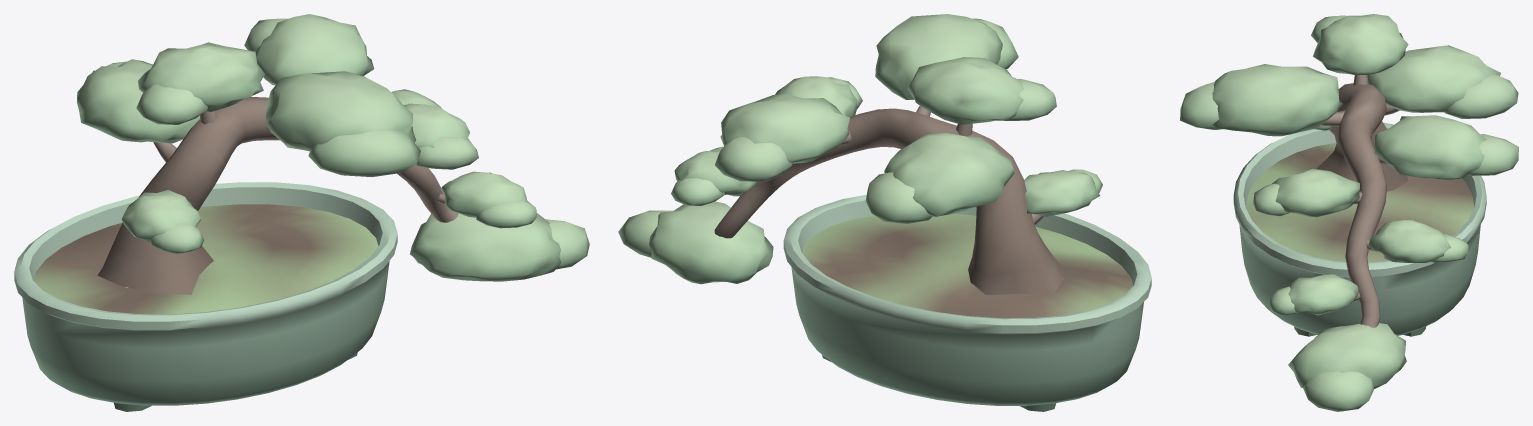
File: bonsai_stage3.glb
3 views of the same model, side by side, from view 1: azimuth 30°, elevation 25°; view 2: azimuth 150°, elevation 25°; view 3: azimuth 270°, elevation 25° (orthographic). The views are drawn at different scales.
Visible parts, largest first — view 1: bonsai_stage3; view 2: bonsai_stage3; view 3: bonsai_stage3.
Part boxes in pixels (x1,y1,x2,y2): bonsai_stage3: (14,14,589,411); bonsai_stage3: (618,14,1151,411); bonsai_stage3: (1180,14,1518,411).
Size of the model in its own units: 0.5675 by 0.3064 by 0.3549.
